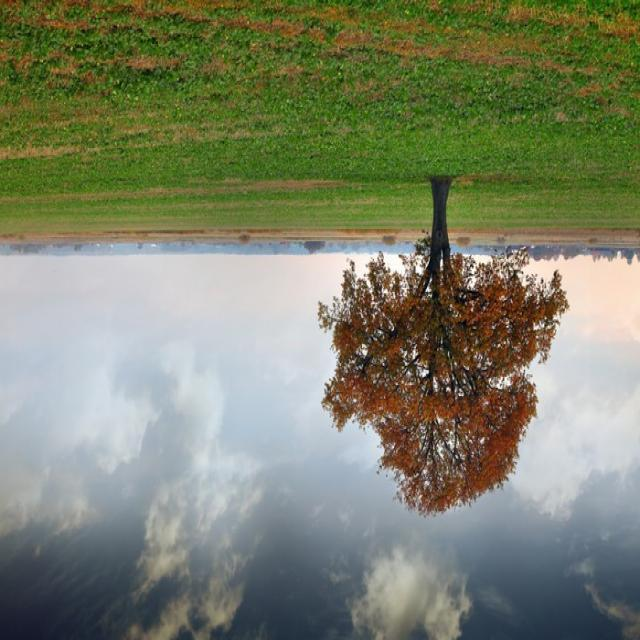tree: (318, 181, 566, 515)
